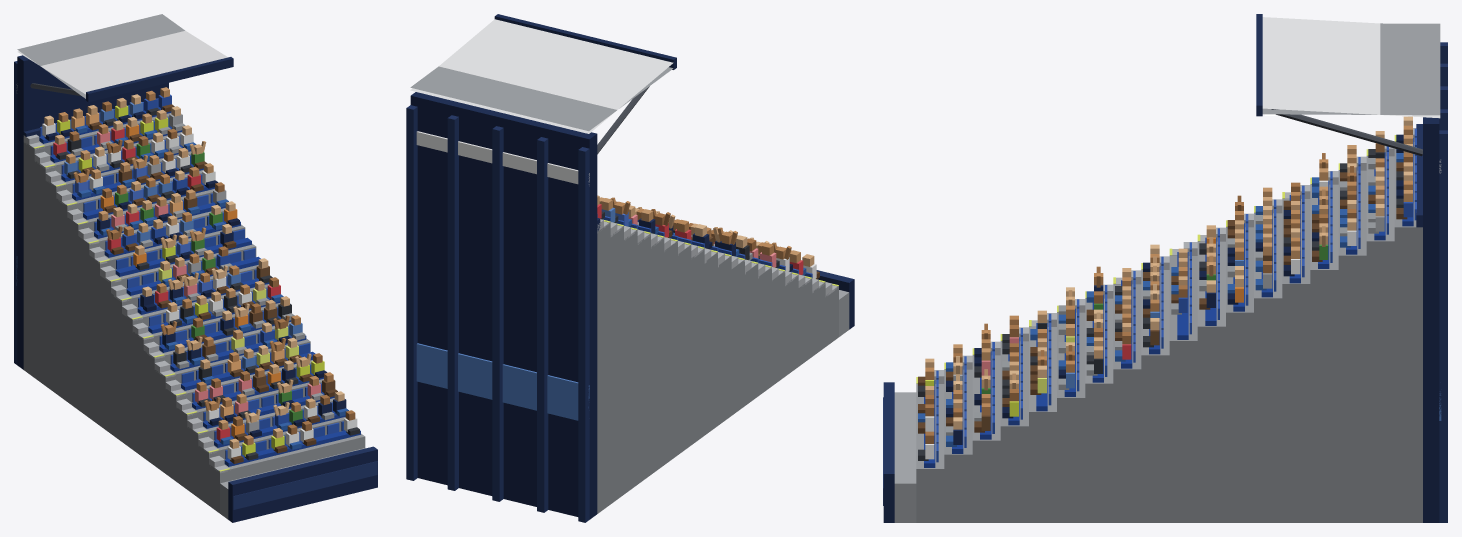
The model's file is Stand_w20_0.glb.
3 renders of one model, left to right at view 1: azimuth 30°, elevation 25°; view 2: azimuth 150°, elevation 25°; view 3: azimuth 270°, elevation 25°, orthographic. The views are drawn at different scales.
Visible parts, largest first — view 1: Stand_w20_0; view 2: Stand_w20_0; view 3: Stand_w20_0.
Boxes of the visible parts, left/top/right/bottom form: Stand_w20_0: left=14, top=14, right=377, bottom=522; Stand_w20_0: left=406, top=14, right=854, bottom=522; Stand_w20_0: left=883, top=14, right=1447, bottom=522.
Size of the model in its own units: 20 by 42.55 by 52.16.
Materials: 2 (1 with a texture image).
